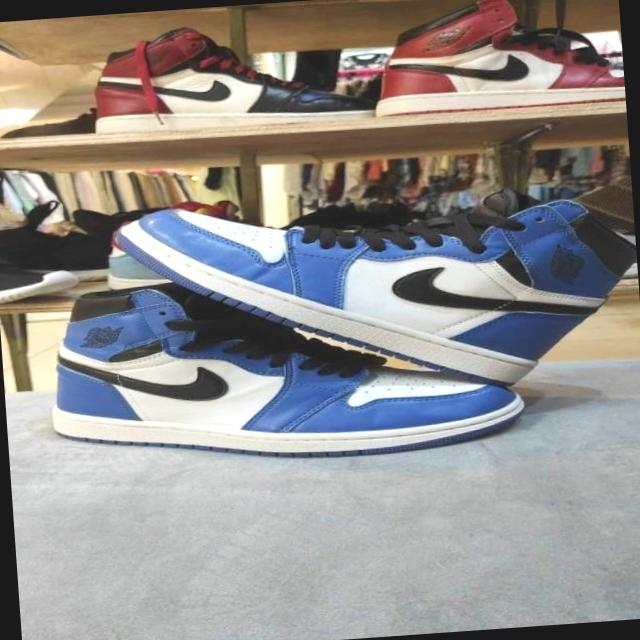nike_fake_jordan: (98, 173, 640, 415), (42, 258, 527, 478)
nike_original_jordan: (360, 0, 622, 122)
